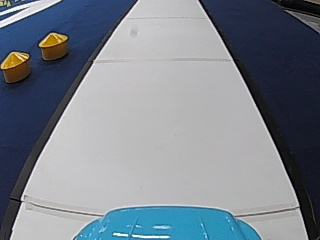granary: (0, 48, 30, 83), (36, 30, 68, 59)
